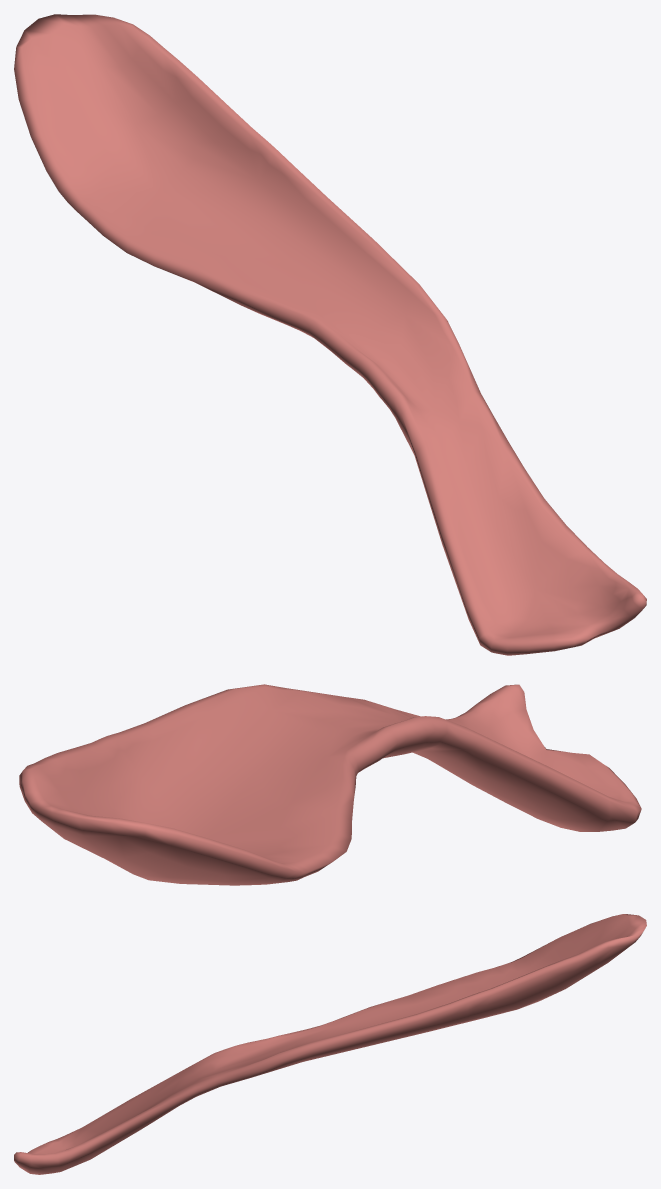
3 views of the same model, one above another, from view 1: azimuth 30°, elevation 25°; view 2: azimuth 150°, elevation 25°; view 3: azimuth 270°, elevation 25° (orthographic). The views are drawn at different scales.
Visible parts, largest first — view 1: ZA_7204cbd66f0a7d18; view 2: ZA_7204cbd66f0a7d18; view 3: ZA_7204cbd66f0a7d18.
Part boxes in pixels (x1,y1,x2,y2): ZA_7204cbd66f0a7d18: (14,14,646,655); ZA_7204cbd66f0a7d18: (19,684,641,885); ZA_7204cbd66f0a7d18: (14,914,646,1174).
Bounding box in the file's own units: 0.00622 × 0.00876 × 0.0224.
